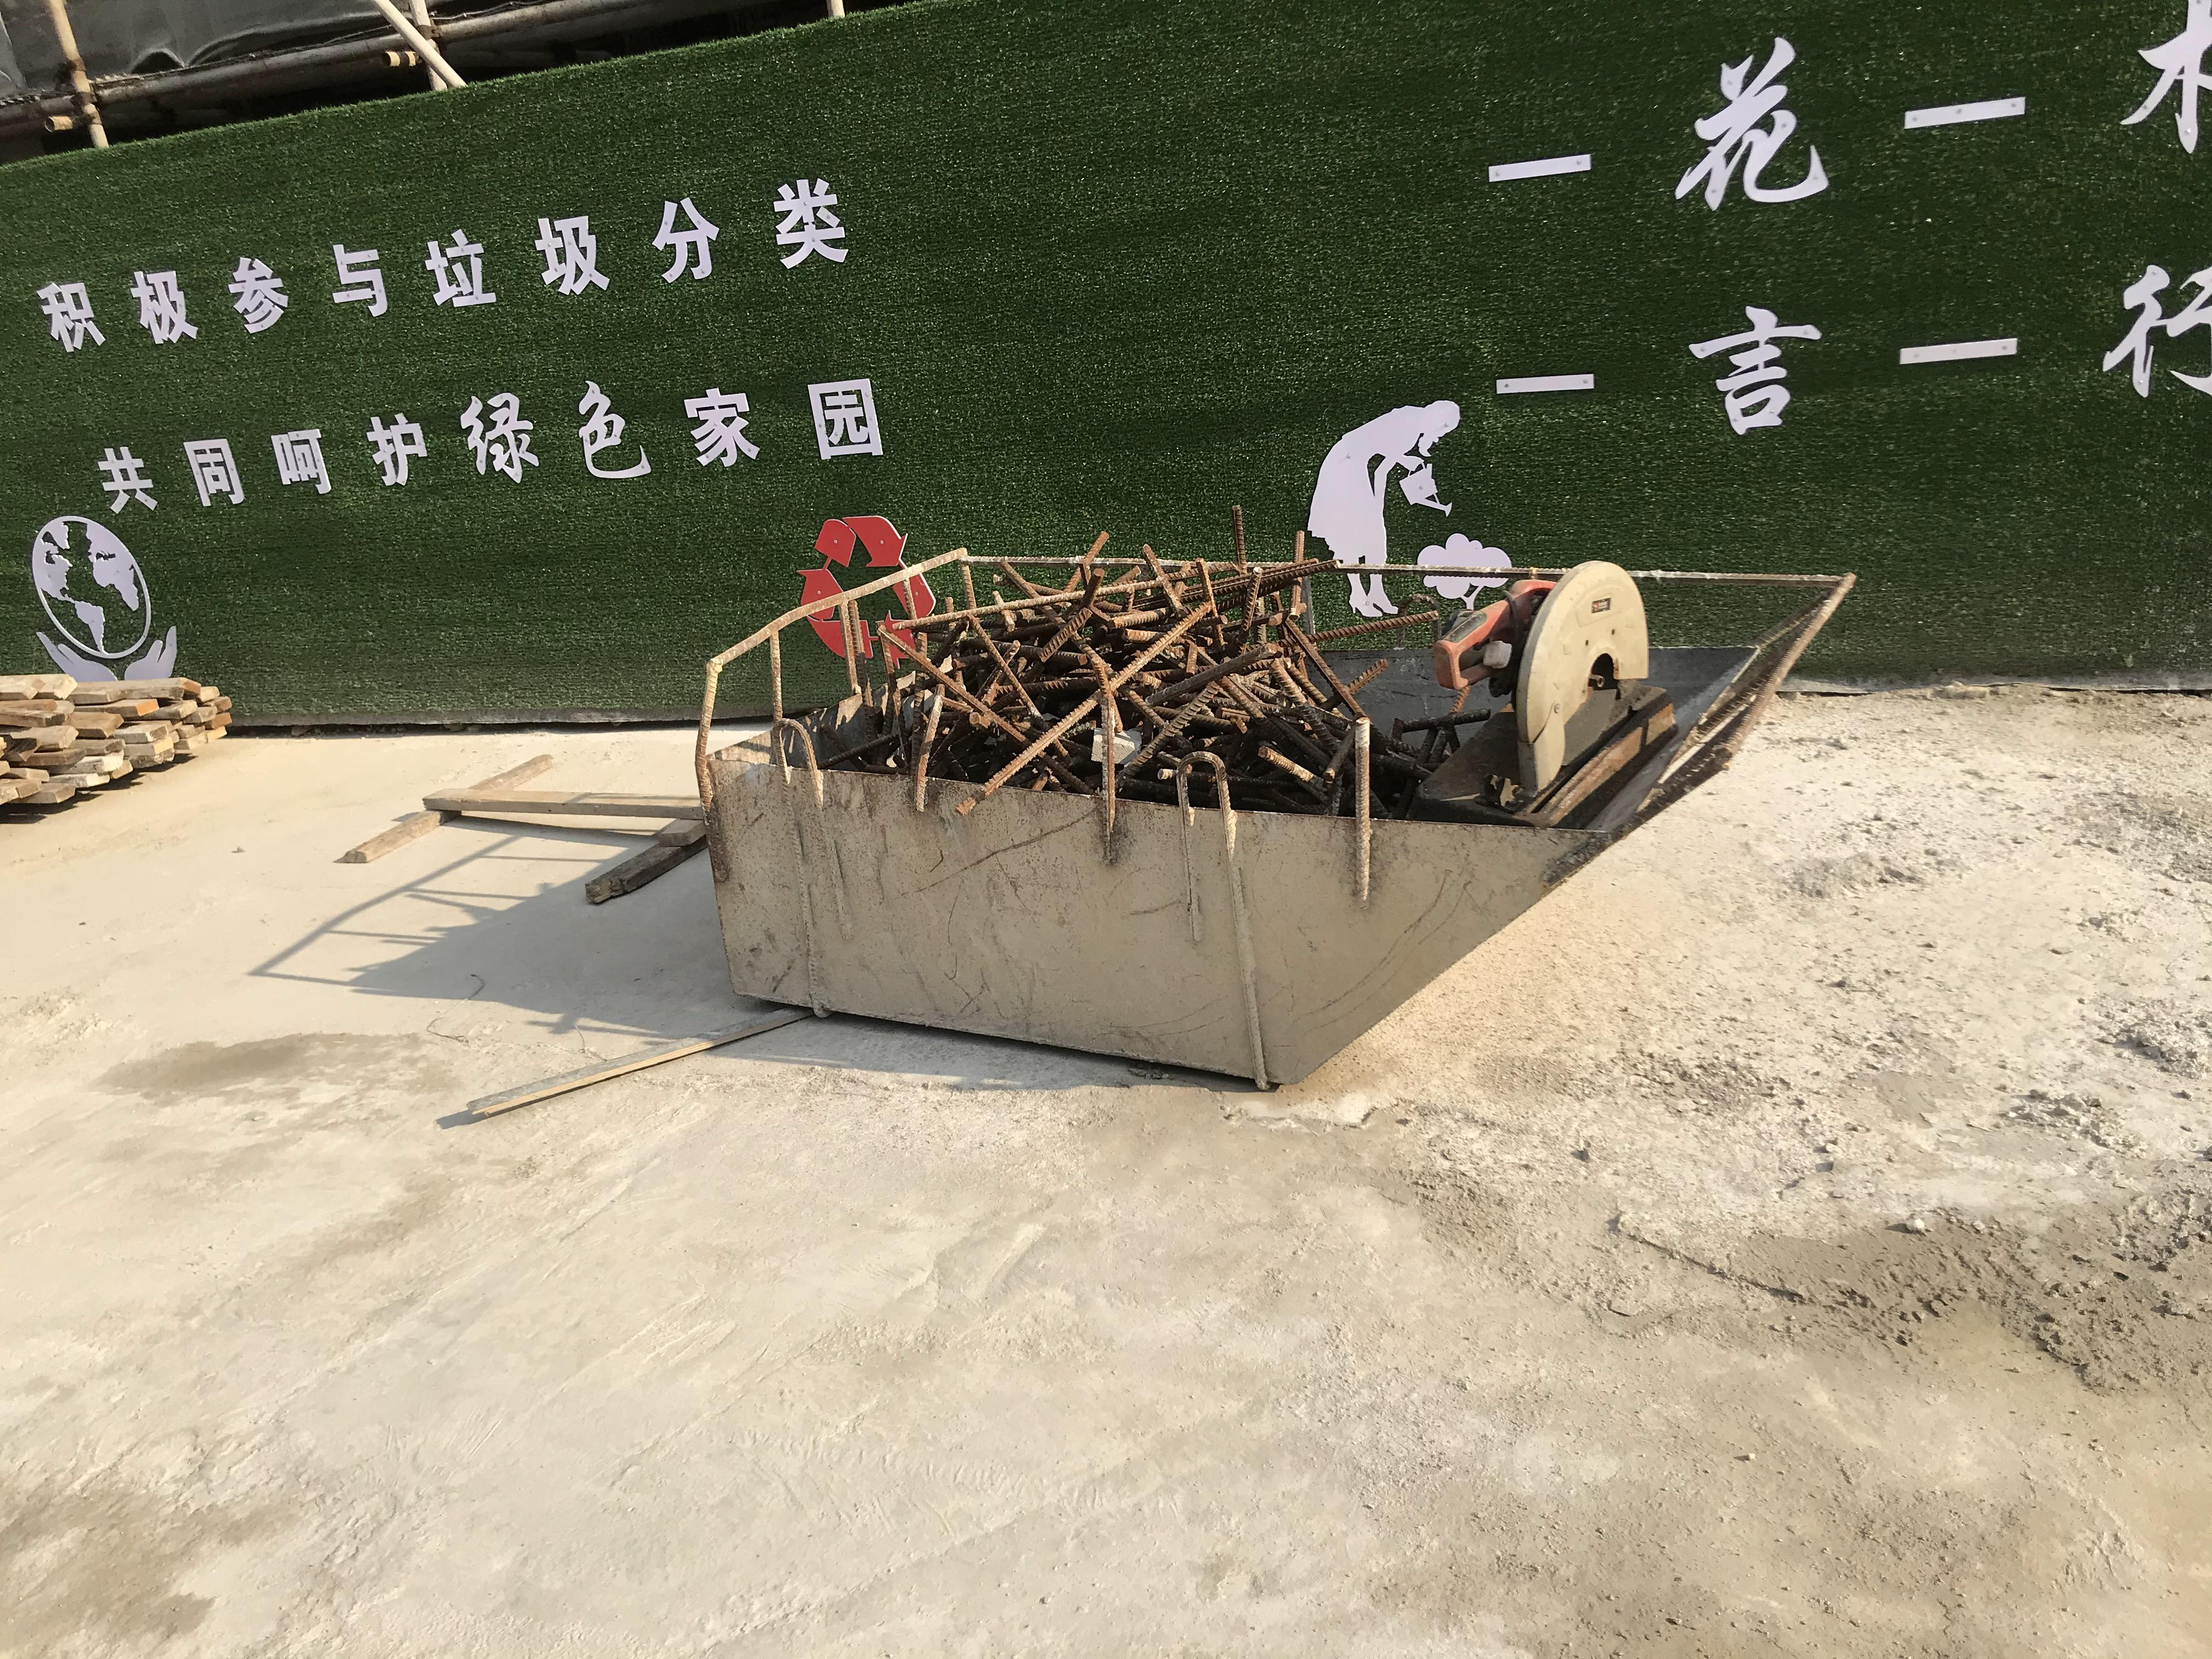hopper: (672, 514, 1872, 1112)
slogan: (24, 132, 913, 559), (1461, 9, 2212, 467)
wood: (0, 671, 233, 823)
